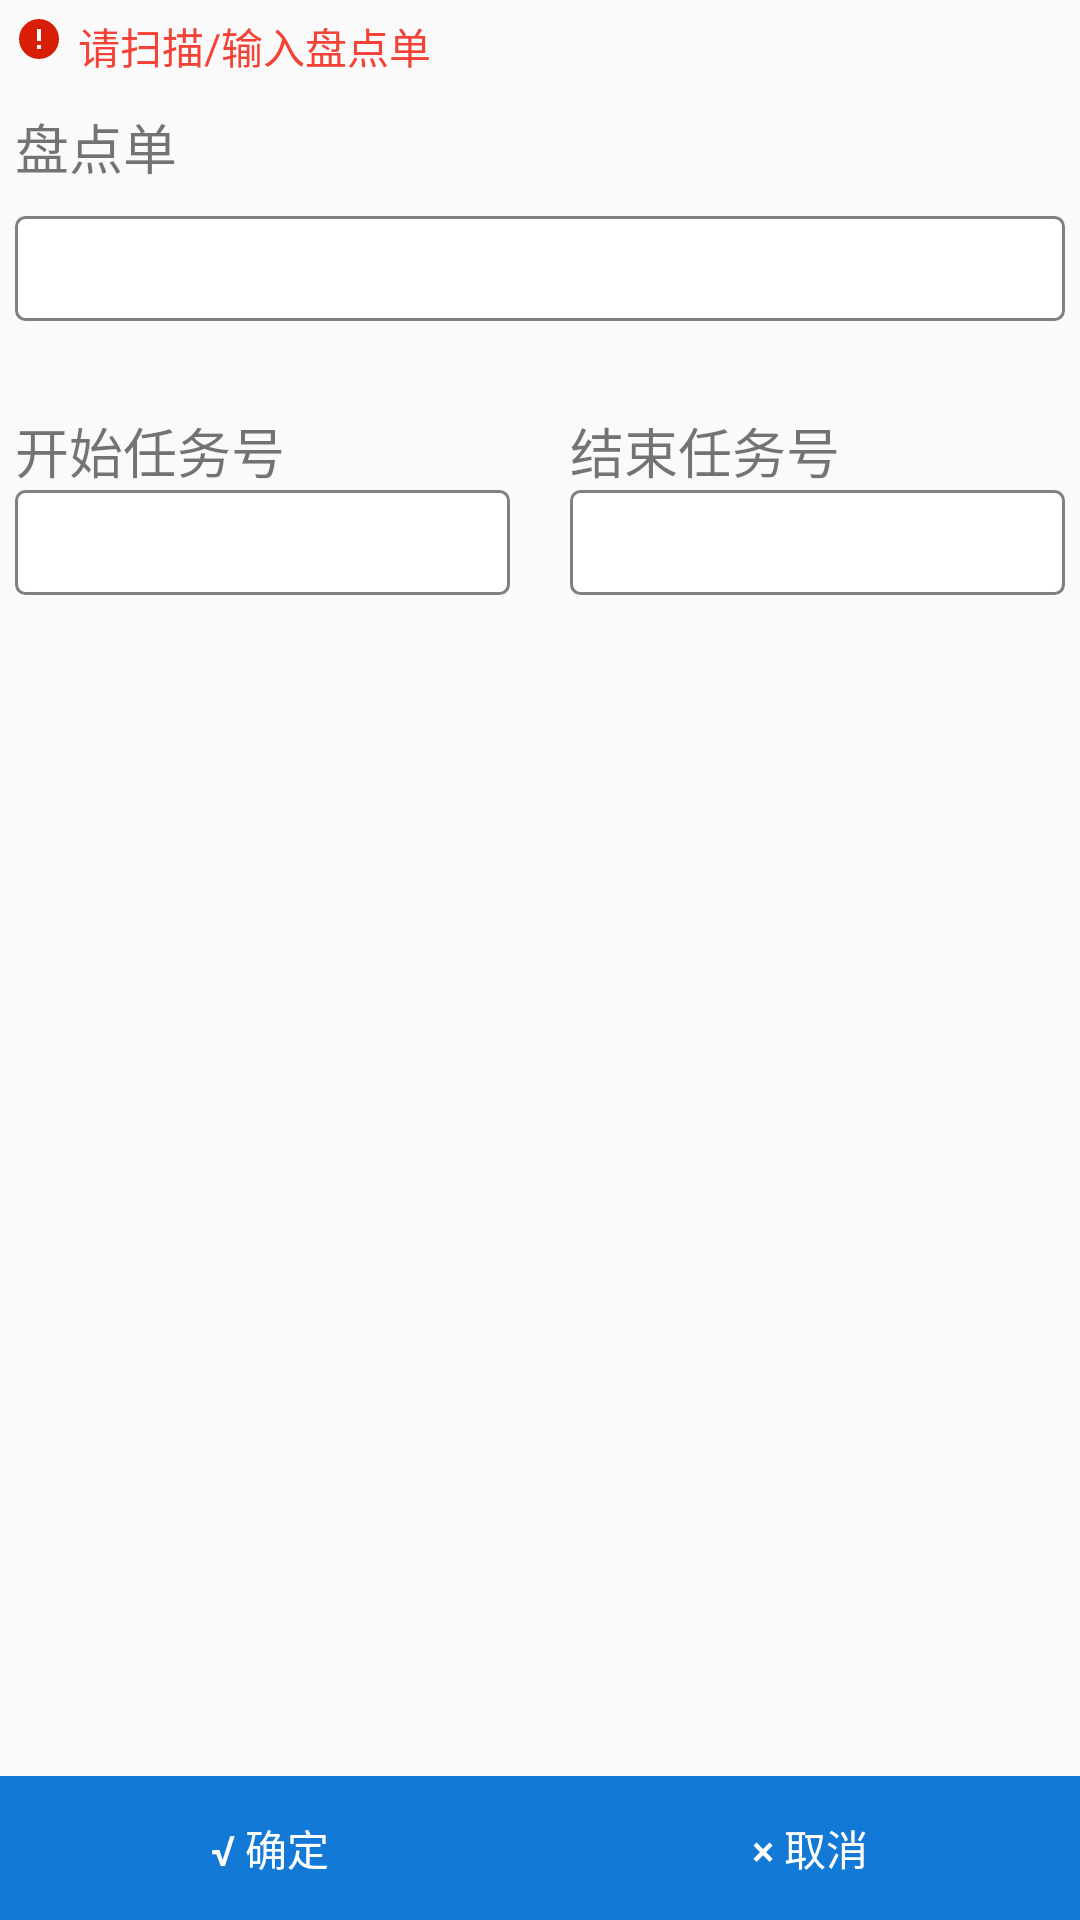

Screen size 1080 x 1920. Icon name, then its center in pixels as [x,y]:
error: [39,39]
